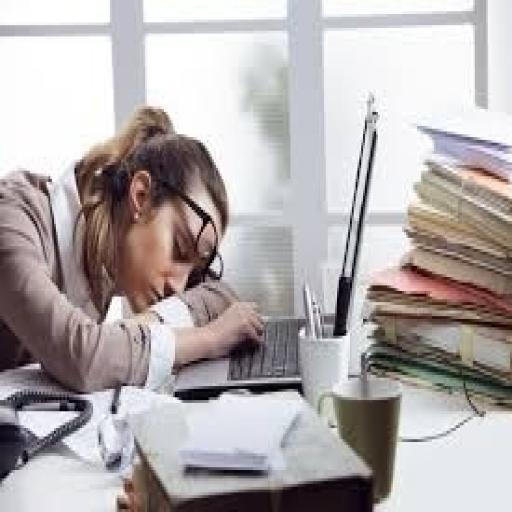sleeping: (0, 100, 266, 394)
